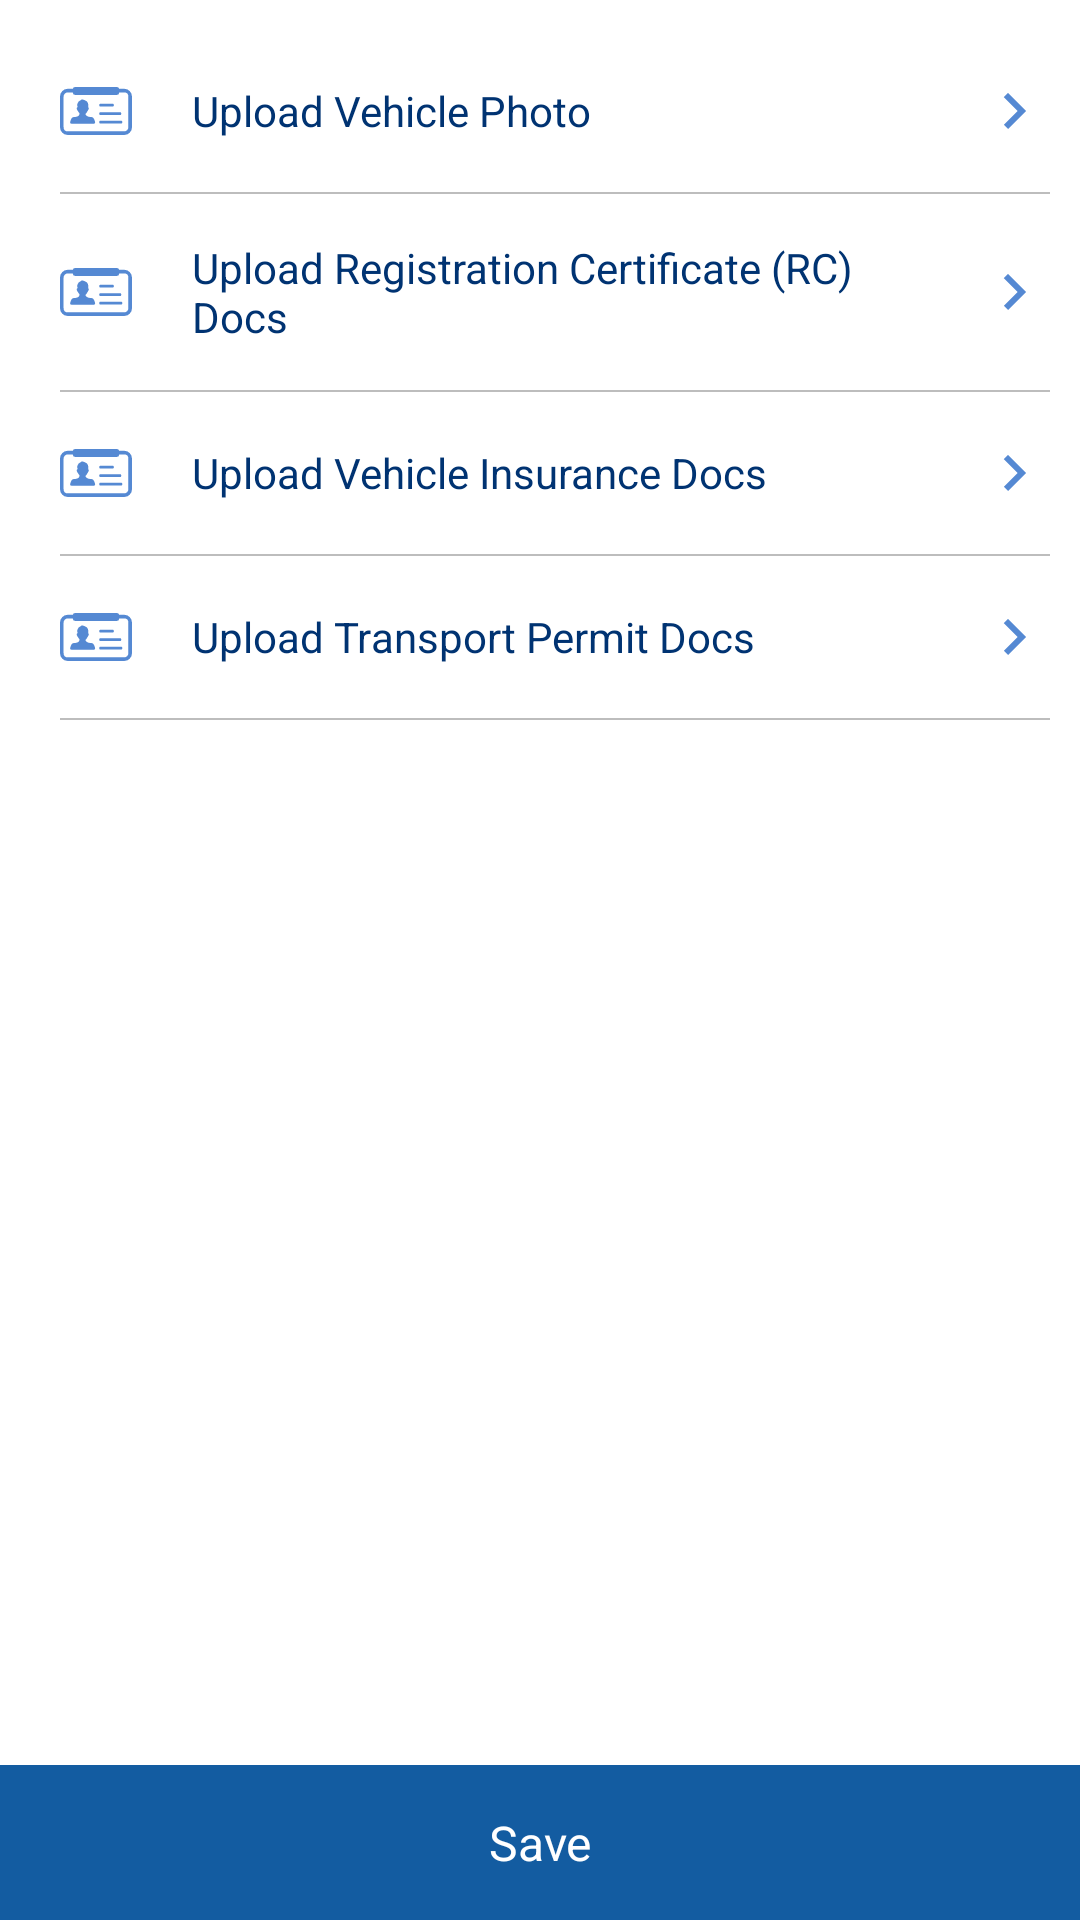

Where to tap for icons on this 1080px×1920px app screen, as (x,y):
aadhar: (96,111), (96,292), (96,473), (96,637)
keyboard arrow right: (1015,111), (1015,292), (1015,473), (1015,637)
